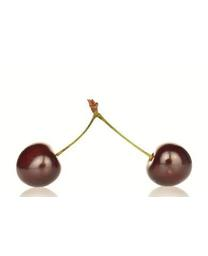cherry: (16, 142, 61, 187), (146, 144, 192, 187)
